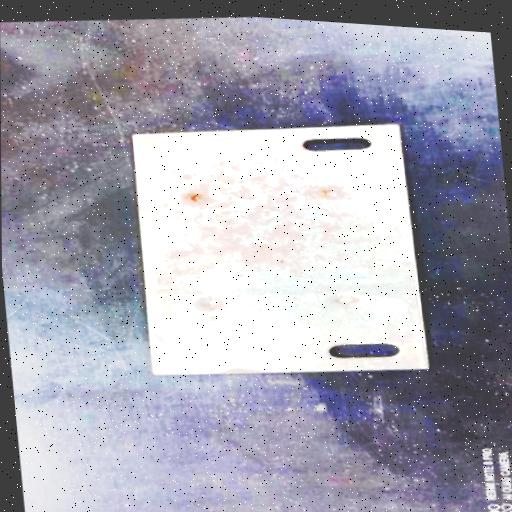corrosion: (172, 179, 225, 224)
